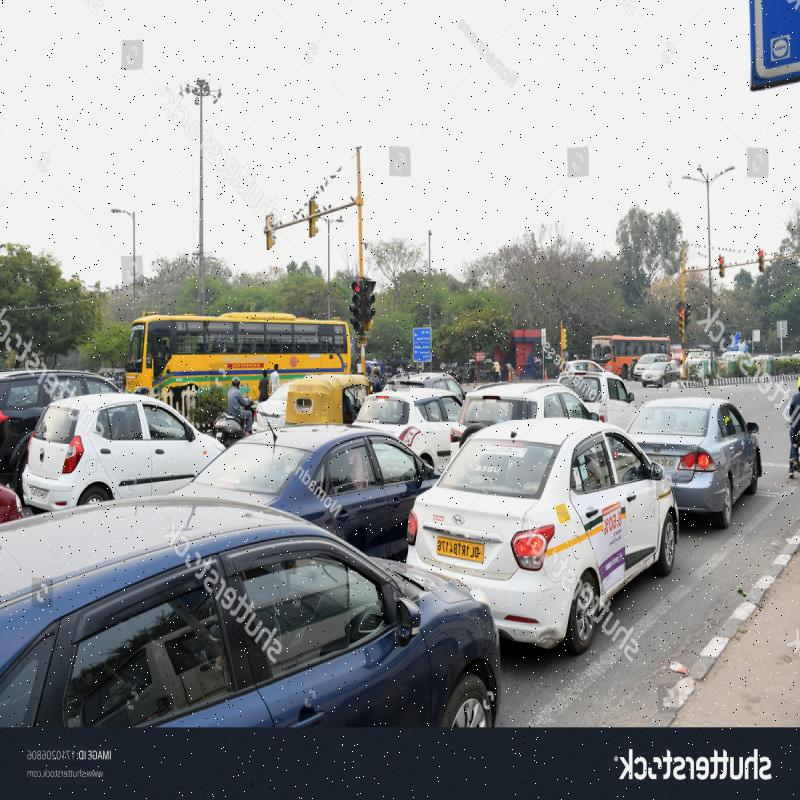car: (4, 495, 460, 771), (447, 424, 684, 623), (0, 398, 212, 511), (214, 424, 422, 518), (626, 404, 750, 512), (368, 380, 468, 464)
